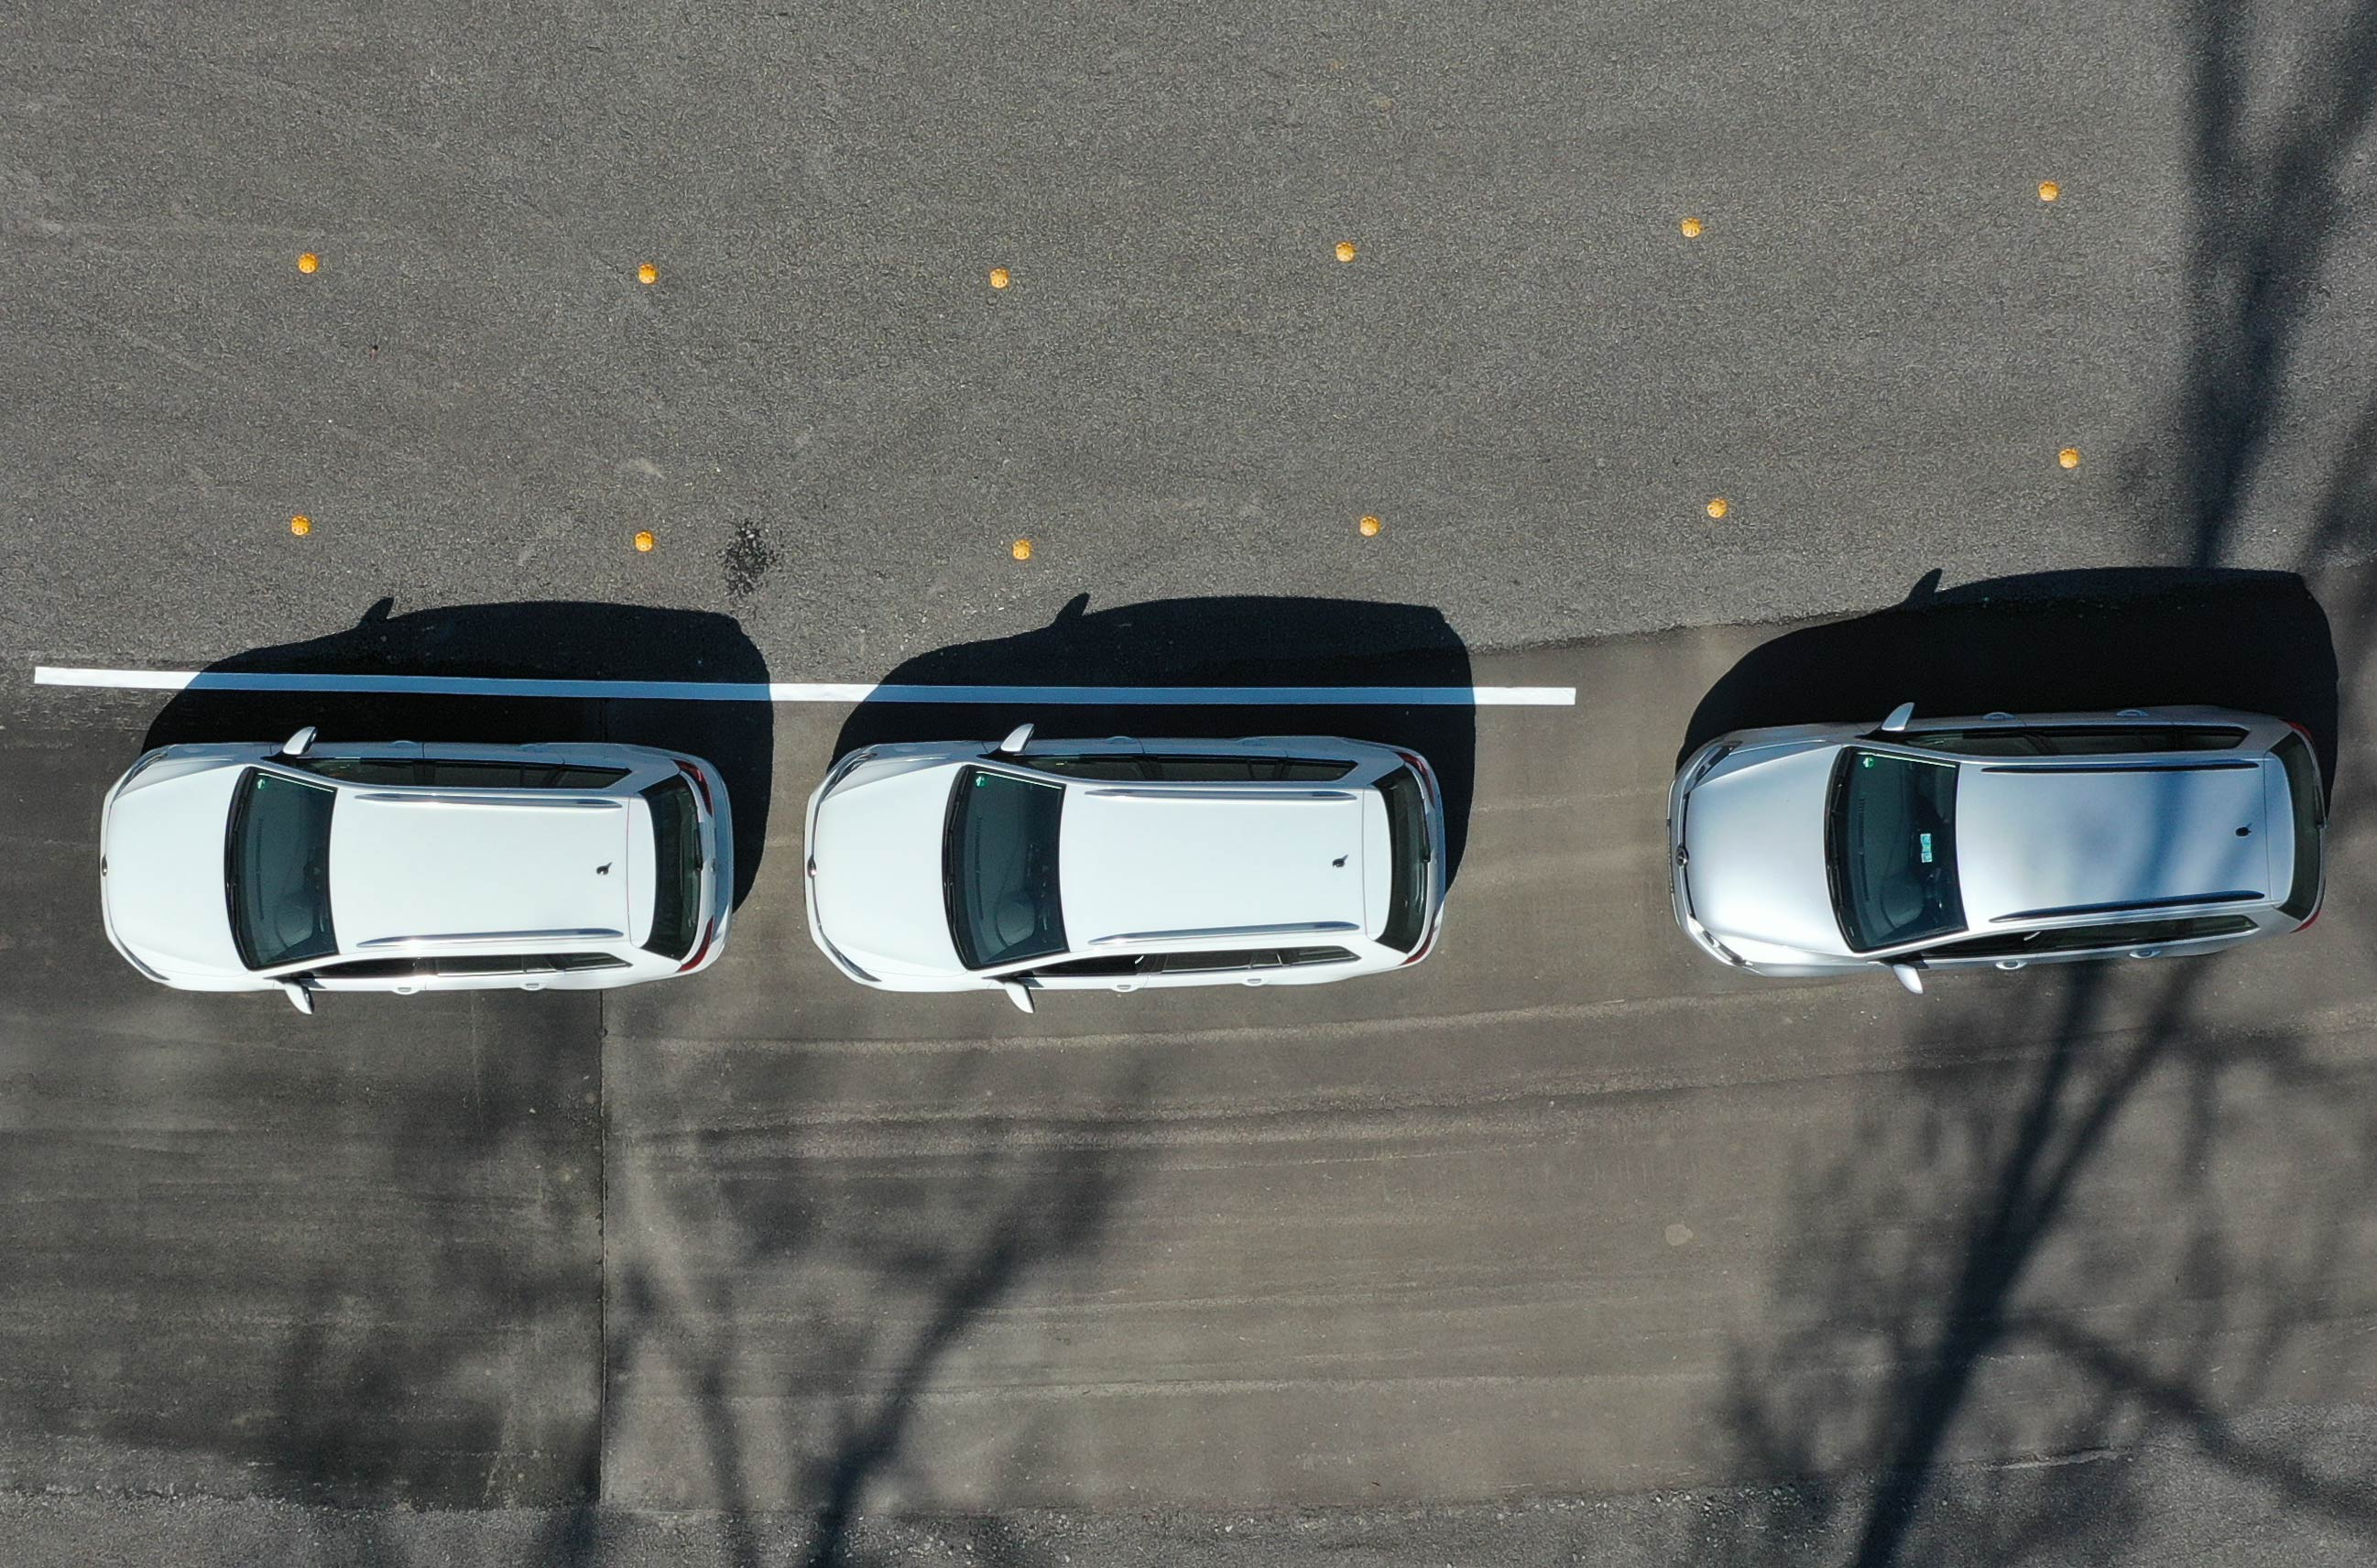Car: (1659, 677, 2333, 1004), (68, 718, 763, 1031), (805, 718, 1477, 1006)
LaneMark: (30, 658, 1584, 712)
